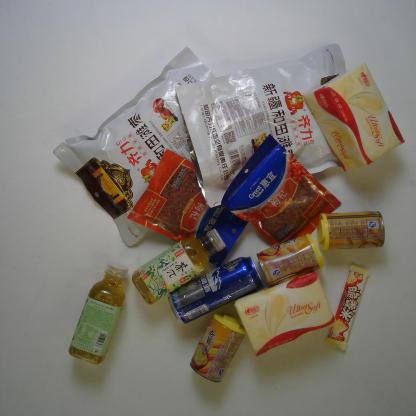Alcohol: (167, 254, 264, 327)
Canned Food: (188, 309, 249, 385), (256, 232, 326, 288), (315, 208, 388, 252)
Chocolate: (324, 263, 372, 353)
Dried Food: (50, 46, 223, 250), (173, 42, 355, 210)
Dried Fruit: (126, 147, 250, 269), (218, 131, 342, 249)
Drink: (130, 227, 228, 306), (66, 260, 130, 366)
Tissue: (302, 60, 405, 176), (232, 268, 339, 360)
